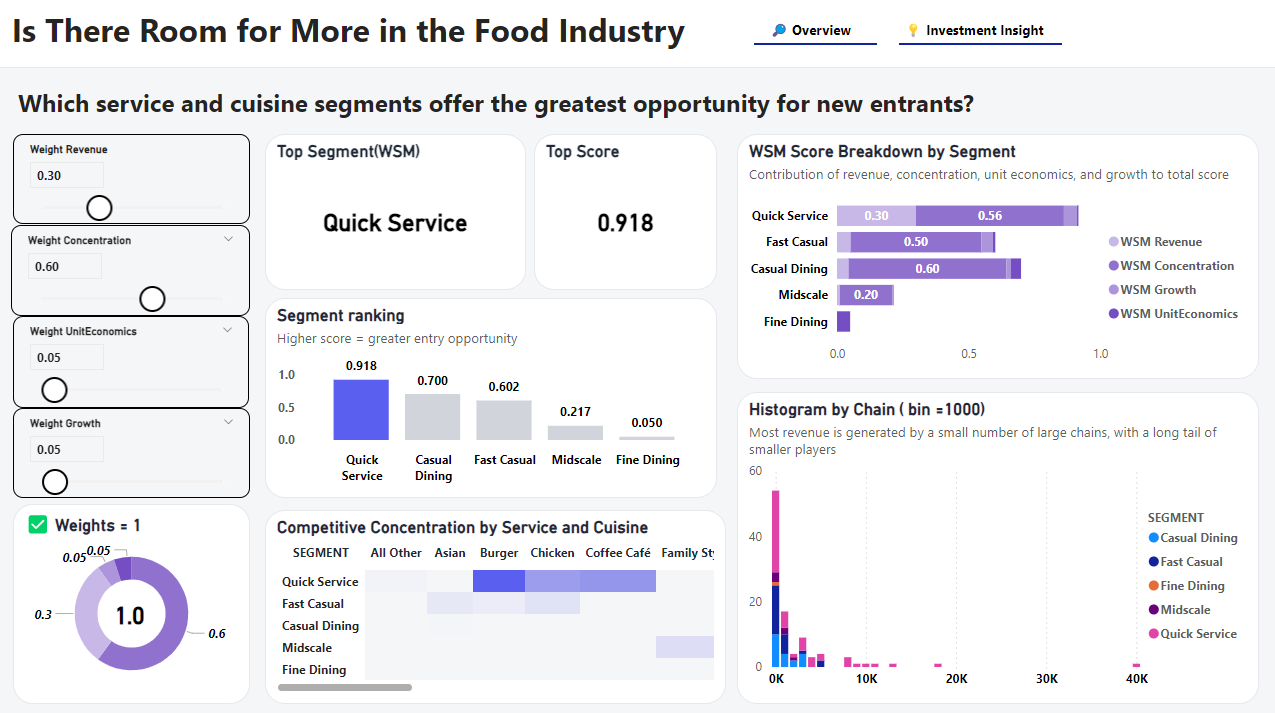

The dashboard page shown, as its layout file describes it:
{"tool":"powerbi","page":{"name":"📈 Market Structure","canvas":[1280,720],"ordinal":1},"visuals":[{"type":"actionButton","box":[709.3,14.6,206.8,36.1],"z":0,"group":"g3"},{"type":"shape","box":[0,71.3,1280,649],"z":0},{"type":"slicer","fields":{"Values":["Weight Revenue.Weight Revenue"]},"box":[14.4,138.3,237.4,90.4],"z":0,"group":"g1"},{"type":"donutChart","fields":{"Category":["WSM Weight Parts.Part"],"Y":["WSM Weight Parts.WSM Weight (Slice)"]},"box":[14.9,507.5,237.3,200],"z":0,"group":"g2"},{"type":"textbox","box":[0,5.9,709.4,59.6],"z":1000},{"type":"actionButton","box":[883.9,14.6,184.4,36.1],"z":1000,"group":"g4"},{"type":"shape","box":[756.7,41.4,122.8,12.7],"z":1000,"group":"g3"},{"type":"slicer","fields":{"Values":["Concentration.Concentration"]},"box":[12.8,228.9,238.9,91.4],"z":1000,"group":"g1"},{"type":"card","title":"Segment ranking","fields":{"Values":["WSM Criteria.WSM Weight Sum"]},"box":[91.5,583,79.8,70.2],"z":1000,"group":"g2"},{"type":"textbox","box":[14.9,85.1,1025.7,73.4],"z":2000},{"type":"slicer","fields":{"Values":["UnitEconomics.UnitEconomics"]},"box":[15.1,320.6,235.9,91.4],"z":2000,"group":"g1"},{"type":"columnChart","title":"Segment ranking","fields":{"Category":["Top100RestaurantChains.SEGMENT"],"Y":["WSM Criteria.WSM Total Score (Dynamic)"]},"box":[267.1,302.2,452.2,200],"z":3000},{"type":"slicer","fields":{"Values":["Growth.Growth"]},"box":[15.2,412.3,237,89.9],"z":3000,"group":"g1"},{"type":"group","id":"g1","title":"Group 1","box":[12.8,138.3,238.3,363.9],"z":4000},{"type":"card","title":"Top Segment(WSM)","fields":{"Values":["WSM Criteria.Top Segment (WSM)"]},"box":[267.1,138.3,260.7,155.3],"z":5000},{"type":"card","title":"Top Score","fields":{"Values":["WSM Criteria.Top Score (WSM)"]},"box":[536.3,138.3,183,155.3],"z":6000},{"type":"columnChart","title":"Histogram by Chain ( bin =1000)","fields":{"Category":["Top100RestaurantChains.2024 U.S. Sales ($000,000) (bins)"],"Y":["CountNonNull(Top100RestaurantChains.CHAIN)"],"Series":["Top100RestaurantChains.SEGMENT"]},"box":[739.5,395.8,521.4,311.8],"z":7000},{"type":"pivotTable","title":"Competitive Concentration by Service and Cuisine","fields":{"Values":["Top100RestaurantChains.0 Total Sales 2024"],"Rows":["Top100RestaurantChains.SEGMENT"],"Columns":["Top100RestaurantChains.MENU CATEGORY"]},"box":[267.1,513.9,460.7,193.6],"z":8000},{"type":"barChart","title":"WSM Score Breakdown by Segment","fields":{"Category":["Top100RestaurantChains.SEGMENT"],"Y":["WSM Criteria.WSM Revenue Contribution","WSM Criteria.WSM Concentration Contribution","WSM Criteria.WSM Growth Contribution","WSM Criteria.WSM UnitEconomics Contribution"]},"box":[739.5,138.3,521.4,244.7],"z":9000},{"type":"group","id":"g2","title":"Group 2","box":[14.9,507.5,237.3,200],"z":10000},{"type":"shape","box":[900.5,41.9,163.9,11.7],"z":10002,"group":"g4"},{"type":"group","id":"g3","title":"Group 2","box":[709.3,14.6,206.8,39],"z":11000},{"type":"group","id":"g4","title":"Group 3","box":[883.9,14.6,184.4,39],"z":12000}]}

Visuals, with their boxes in screenshot pixels (x1, y1, x2, y2), scaled from the page's 1280x720 canvas onto the 1275x713 screenshot:
actionButton: crop(707, 14, 913, 50)
shape: crop(0, 71, 1274, 712)
slicer - Weight Revenue.Weight Revenue: crop(14, 137, 251, 226)
donutChart - WSM Weight Parts.Part x WSM Weight Parts.WSM Weight (Slice): crop(15, 503, 251, 701)
textbox: crop(0, 6, 707, 65)
actionButton: crop(880, 14, 1064, 50)
shape: crop(754, 41, 876, 54)
slicer - Concentration.Concentration: crop(13, 227, 251, 317)
"Segment ranking" card: crop(91, 577, 171, 647)
textbox: crop(15, 84, 1037, 157)
slicer - UnitEconomics.UnitEconomics: crop(15, 317, 250, 408)
"Segment ranking" columnChart: crop(266, 299, 716, 497)
slicer - Growth.Growth: crop(15, 408, 251, 497)
"Group 1" group: crop(13, 137, 250, 497)
"Top Segment(WSM)" card: crop(266, 137, 526, 291)
"Top Score" card: crop(534, 137, 716, 291)
"Histogram by Chain ( bin =1000)" columnChart: crop(737, 392, 1256, 701)
"Competitive Concentration by Service and Cuisine" pivotTable: crop(266, 509, 725, 701)
"WSM Score Breakdown by Segment" barChart: crop(737, 137, 1256, 379)
"Group 2" group: crop(15, 503, 251, 701)
shape: crop(897, 41, 1060, 53)
"Group 2" group: crop(707, 14, 913, 53)
"Group 3" group: crop(880, 14, 1064, 53)
